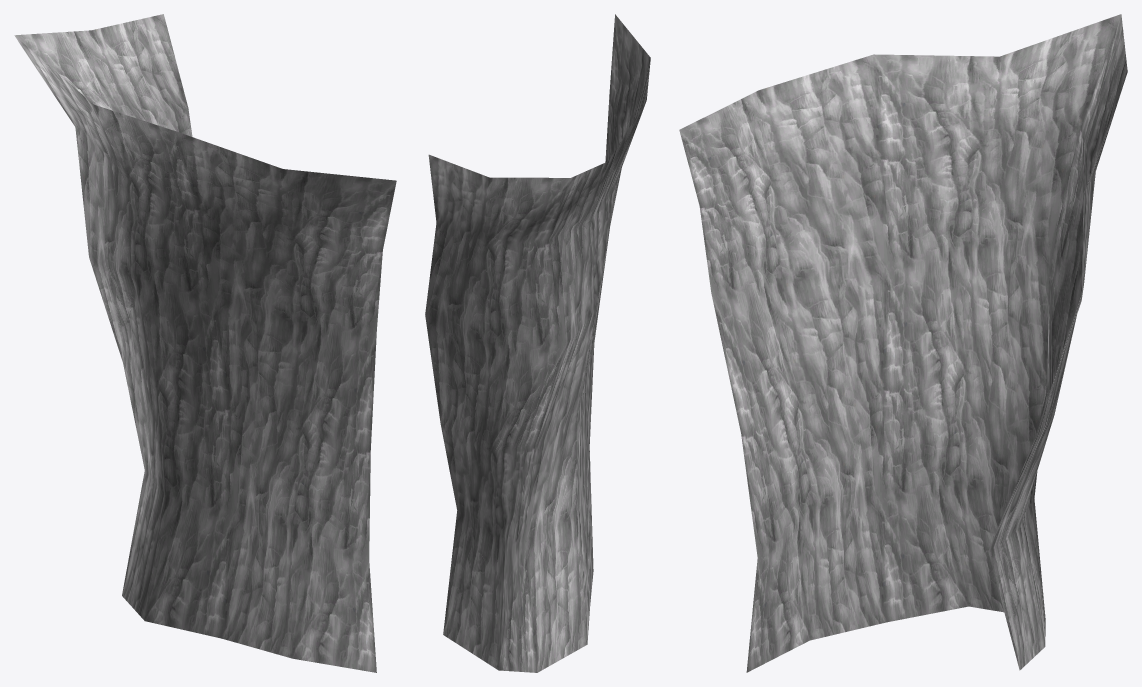
Rendered from SWORDLIGHT20_PS-AREA03_65.fbx.
The picture shows the model from 3 angles, left to right: view 1: azimuth 30°, elevation 25°; view 2: azimuth 150°, elevation 25°; view 3: azimuth 270°, elevation 25°; orthographic projection. The views are drawn at different scales.
Parts seen in each view (by area): view 1: SWORDLIGHT20_PS-AREA03_65; view 2: SWORDLIGHT20_PS-AREA03_65; view 3: SWORDLIGHT20_PS-AREA03_65.
Boxes of the visible parts, <box> form: SWORDLIGHT20_PS-AREA03_65: <box>14,14,396,672</box>; SWORDLIGHT20_PS-AREA03_65: <box>425,14,650,672</box>; SWORDLIGHT20_PS-AREA03_65: <box>679,14,1127,672</box>.
Bounding box in the file's own units: 72840 × 214310 × 150996.
1 material, 1 textured.
